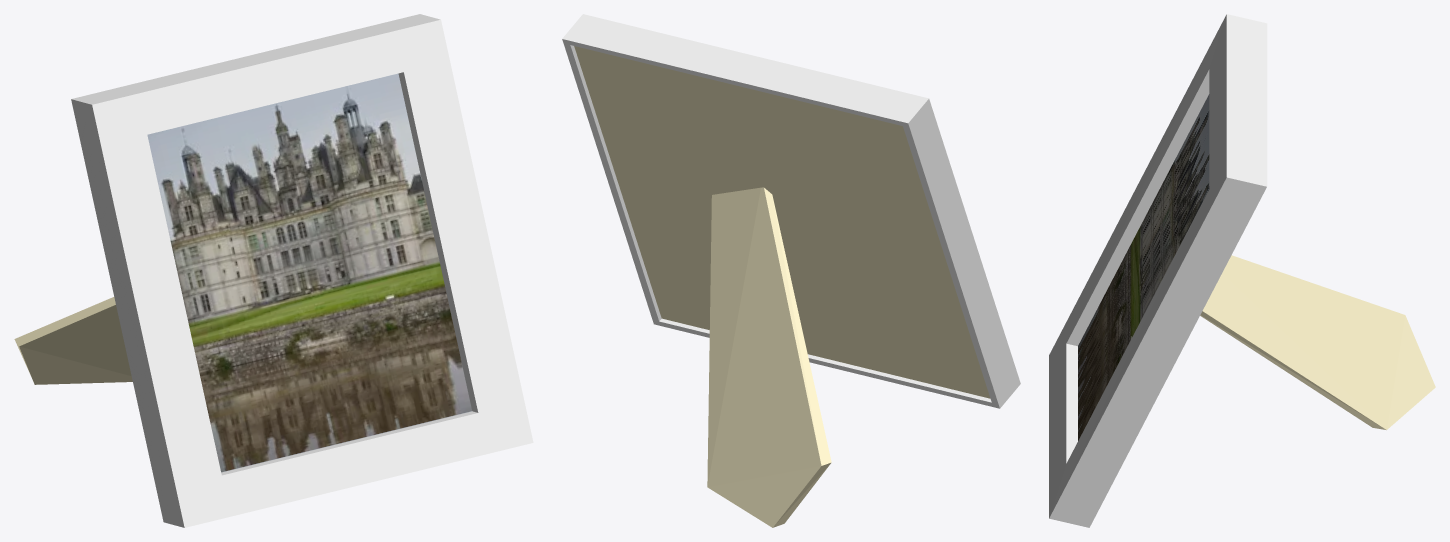
The model's file is sh-scopia-frame1.glb.
3 renders of one model, left to right at view 1: azimuth 30°, elevation 25°; view 2: azimuth 150°, elevation 25°; view 3: azimuth 270°, elevation 25°, orthographic. The views are drawn at different scales.
Parts seen in each view (by area): view 1: frame1_Cube.001; view 2: frame1_Cube.001; view 3: frame1_Cube.001.
Part boxes in pixels (box(x1,y1,x2,y2)): frame1_Cube.001: box(14, 14, 533, 527); frame1_Cube.001: box(562, 14, 1020, 527); frame1_Cube.001: box(1049, 14, 1435, 527).
Bounding box in the file's own units: 1 × 1 × 1.
Materials: 3 (1 with a texture image).
